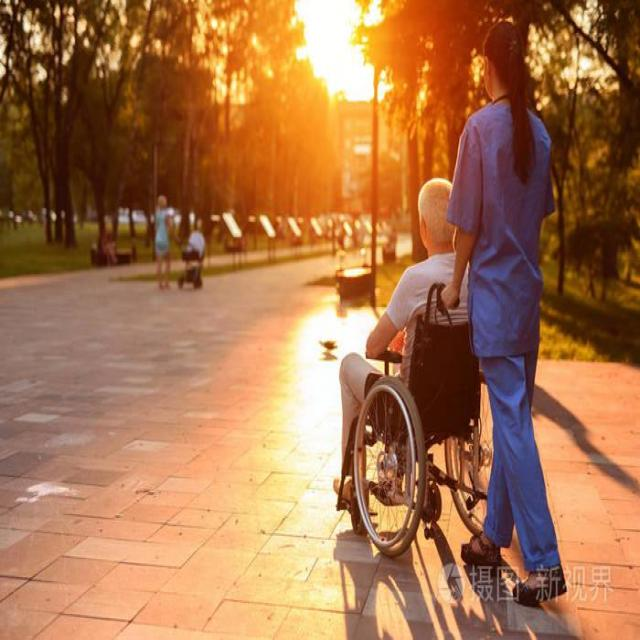wheelchairs: (331, 268, 506, 568)
